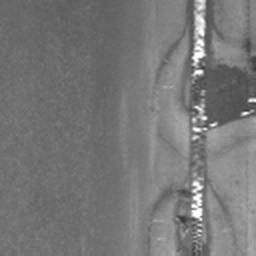Slag inclusion: (143, 0, 253, 256)
